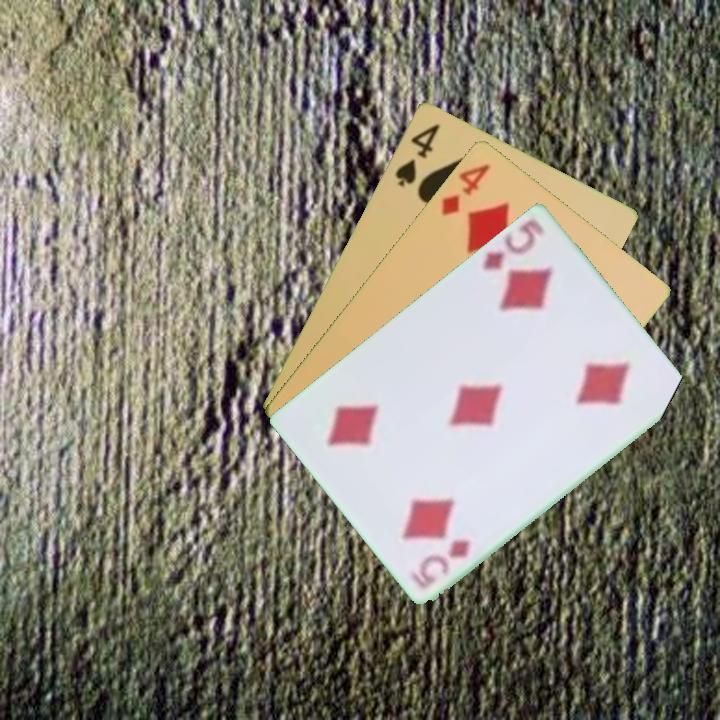4d: (437, 160, 493, 218)
4s: (391, 119, 443, 189)
5d: (478, 214, 548, 274), (421, 535, 473, 580)
